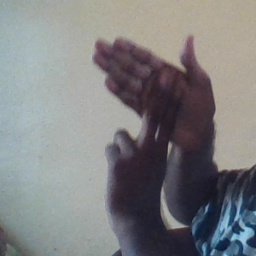N: (83, 27, 216, 189)
